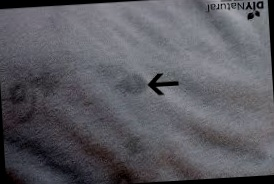oil: (95, 57, 149, 101)
